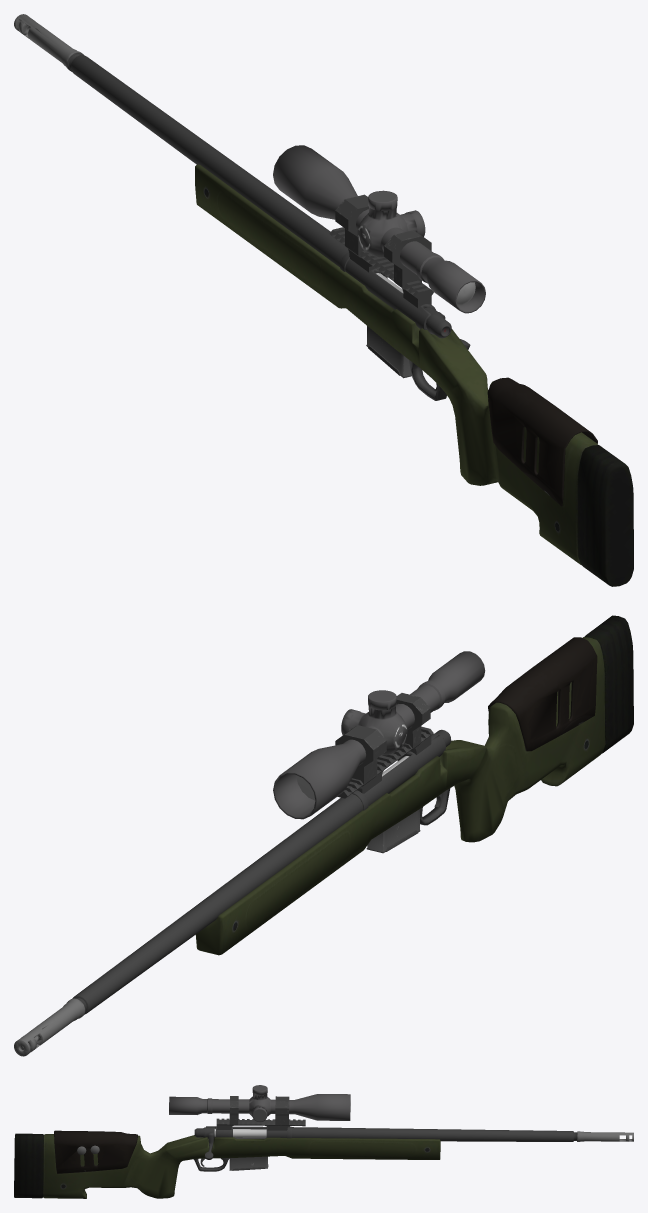
The model's file is sniper.glb.
The picture shows the model from 3 angles, top to bottom: view 1: azimuth 30°, elevation 25°; view 2: azimuth 150°, elevation 25°; view 3: azimuth 270°, elevation 25°; orthographic projection. The views are drawn at different scales.
Parts seen in each view (by area): view 1: body_02___Default, body_03___Default, body_07___Default, mag_03___Default; view 2: body_02___Default, body_07___Default, body_03___Default, mag_03___Default; view 3: body_02___Default, body_07___Default, body_03___Default, mag_03___Default.
Part boxes in pixels (x1,y1,x2,y2): body_02___Default: (195,145,633,586); body_03___Default: (329,194,597,506); body_07___Default: (14,14,445,334); mag_03___Default: (366,326,411,378); body_02___Default: (195,615,633,955); body_07___Default: (14,733,445,1056); body_03___Default: (335,637,597,825); mag_03___Default: (366,809,420,853); body_02___Default: (14,1085,440,1198); body_07___Default: (203,1126,633,1149); body_03___Default: (54,1096,305,1173); mag_03___Default: (229,1156,268,1170).
Bounding box in the file's own units: 0.0629 × 0.2203 × 1.13.
3 materials, 3 textured.
